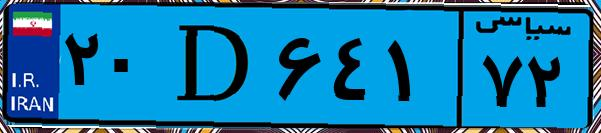0: (110, 28, 158, 98)
1: (385, 28, 445, 110)
2: (57, 26, 110, 100), (525, 38, 570, 115)
4: (330, 28, 385, 110)
6: (270, 28, 330, 110)
7: (475, 38, 525, 113)
D: (158, 12, 270, 120)
